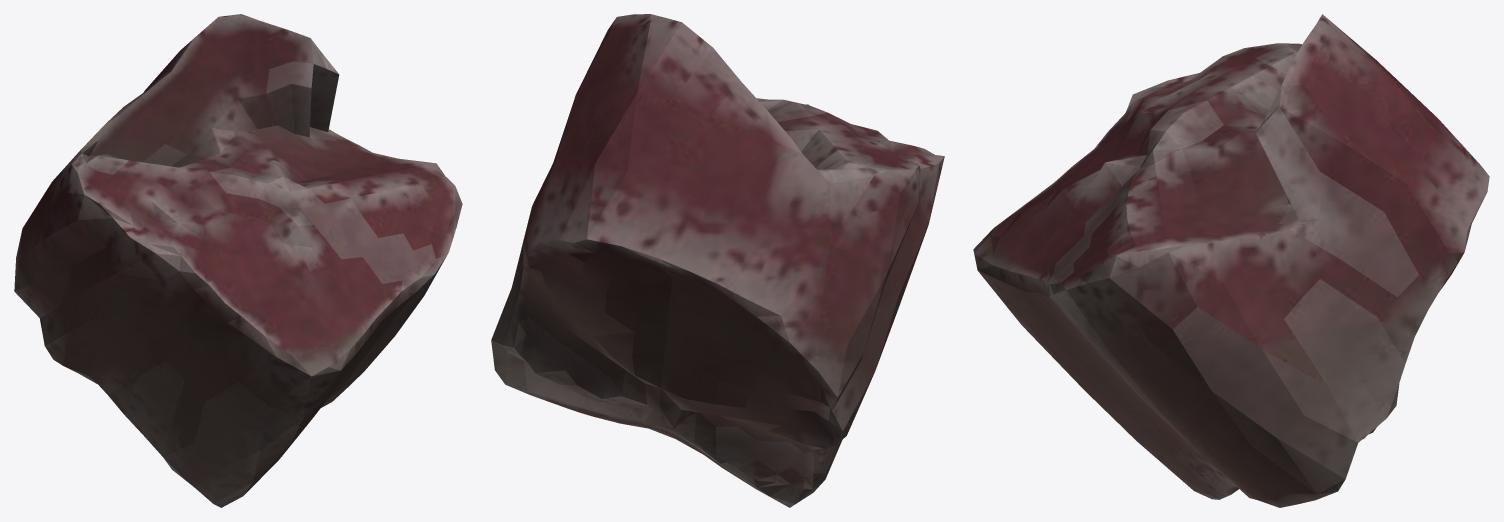
The model's file is small-promethium-asteroid.glb.
3 renders of one model, left to right at view 1: azimuth 30°, elevation 25°; view 2: azimuth 150°, elevation 25°; view 3: azimuth 270°, elevation 25°, orthographic. The views are drawn at different scales.
Visible parts, largest first — view 1: body; view 2: body; view 3: body.
Boxes of the visible parts, left/top/right/bottom form: body: left=14, top=14, right=462, bottom=507; body: left=491, top=14, right=944, bottom=507; body: left=973, top=14, right=1489, bottom=507.
Size of the model in its own units: 1.41 by 1.79 by 1.64.
Materials: 1 (1 with a texture image).
